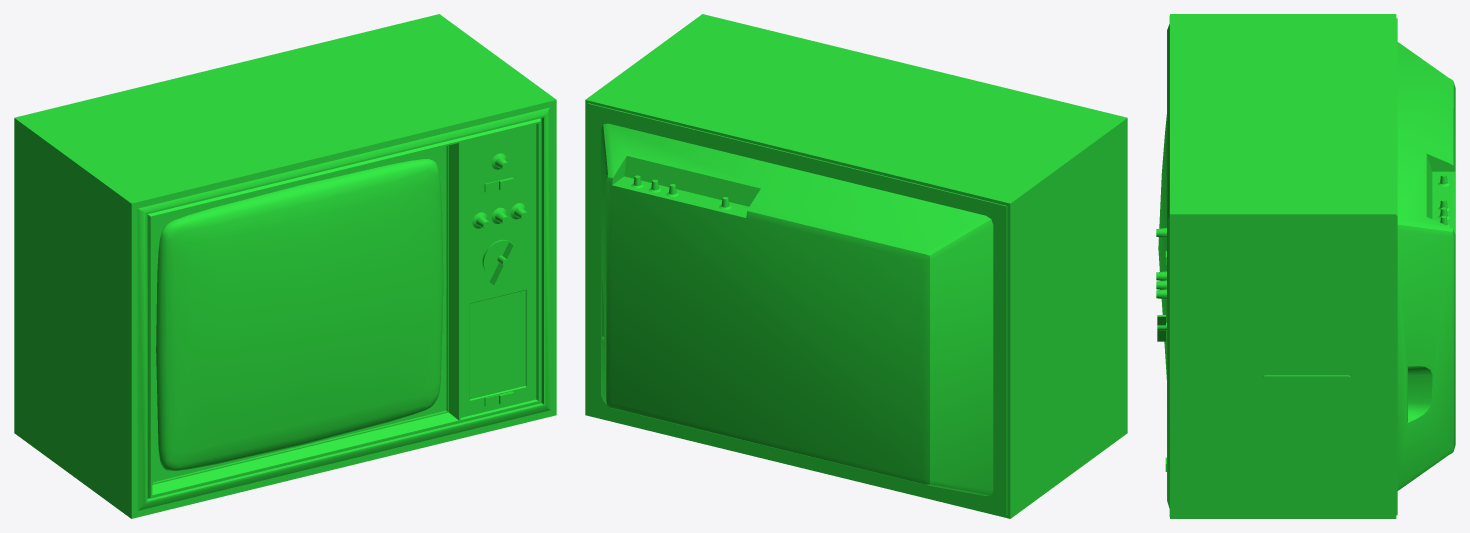
Rendered from retro_tv.glb.
3 views of the same model, side by side, from view 1: azimuth 30°, elevation 25°; view 2: azimuth 150°, elevation 25°; view 3: azimuth 270°, elevation 25° (orthographic). The views are drawn at different scales.
Visible parts, largest first — view 1: TV_Cube.002; view 2: TV_Cube.002; view 3: TV_Cube.002.
Part boxes in pixels (x1=…): TV_Cube.002: x1=14, y1=14, x2=556, y2=518; TV_Cube.002: x1=585, y1=14, x2=1127, y2=518; TV_Cube.002: x1=1156, y1=14, x2=1455, y2=518.
Size of the model in its own units: 0.7095 by 0.5002 by 0.4458.
